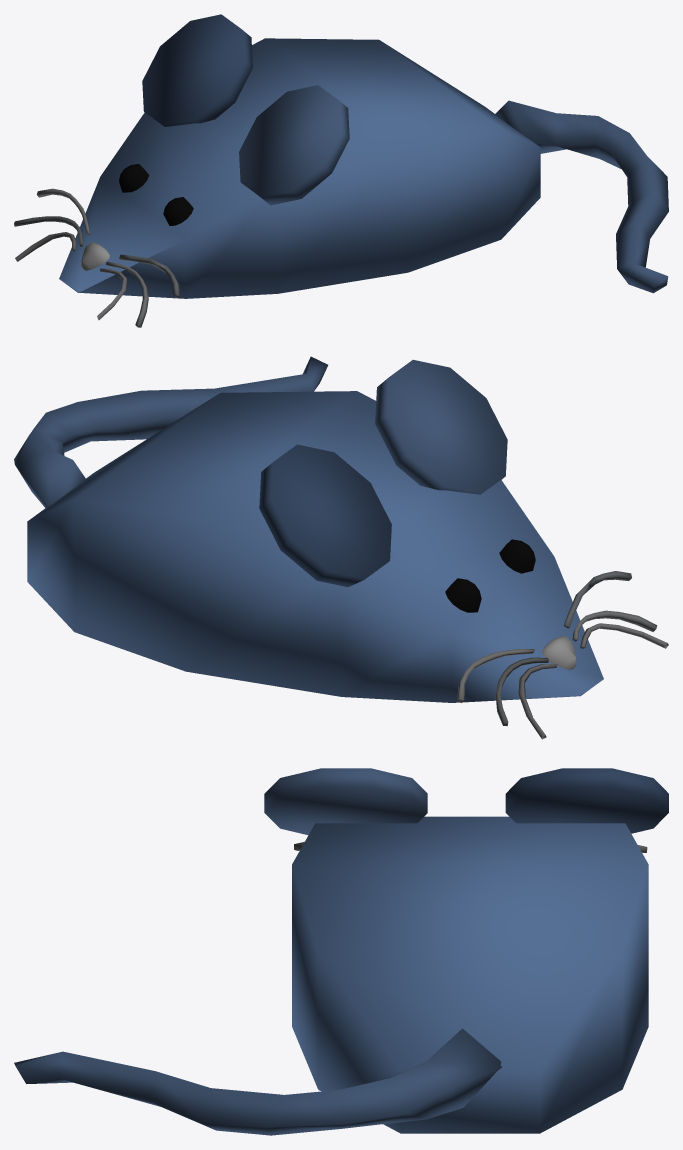
File: rato.fbx
3 renders of one model, top to bottom at view 1: azimuth 30°, elevation 25°; view 2: azimuth 150°, elevation 25°; view 3: azimuth 270°, elevation 25°, orthographic. The views are drawn at different scales.
Visible parts, largest first — view 1: Cube, Plane.006, Cylinder, Cylinder.001, Sphere, Sphere.001, Plane.001, Plane, Plane.004; view 2: Cube, Cylinder.001, Cylinder, Plane.006, Sphere, Sphere.001, Plane.001, Plane, Plane.003, Plane.002, Plane.004, Plane.005; view 3: Cube, Plane.006, Cylinder, Cylinder.001.
Part boxes in pixels (x1,y1,x2,y2): Cube: [59, 38, 540, 298]; Plane.006: [495, 100, 668, 293]; Cylinder: [239, 85, 349, 205]; Cylinder.001: [142, 14, 252, 126]; Sphere: [119, 164, 193, 225]; Sphere.001: [81, 242, 109, 270]; Plane.001: [106, 261, 148, 327]; Plane: [119, 254, 180, 297]; Plane.004: [14, 216, 82, 246]; Cube: [27, 391, 603, 702]; Cylinder.001: [259, 444, 391, 587]; Cylinder: [375, 359, 507, 494]; Plane.006: [14, 356, 328, 507]; Sphere: [445, 539, 535, 612]; Sphere.001: [542, 636, 576, 669]; Plane.001: [572, 610, 657, 641]; Plane: [563, 571, 631, 628]; Plane.003: [457, 649, 534, 702]; Plane.002: [580, 623, 668, 649]; Plane.004: [495, 657, 548, 726]; Plane.005: [518, 664, 557, 739]; Cube: [292, 816, 648, 1133]; Plane.006: [14, 1028, 501, 1135]; Cylinder: [264, 768, 427, 835]; Cylinder.001: [505, 768, 668, 833].
Size of the model in its own units: 735 by 244 by 620.
